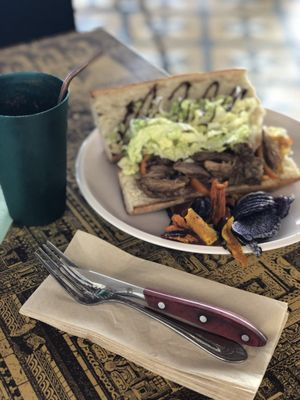burger: (30, 235, 270, 364)
pizza: (0, 71, 70, 227)
